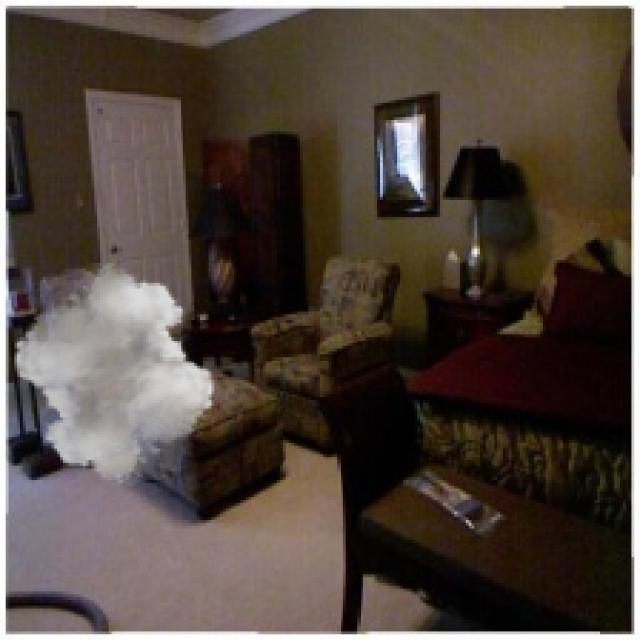Smoke: (6, 263, 223, 486)
